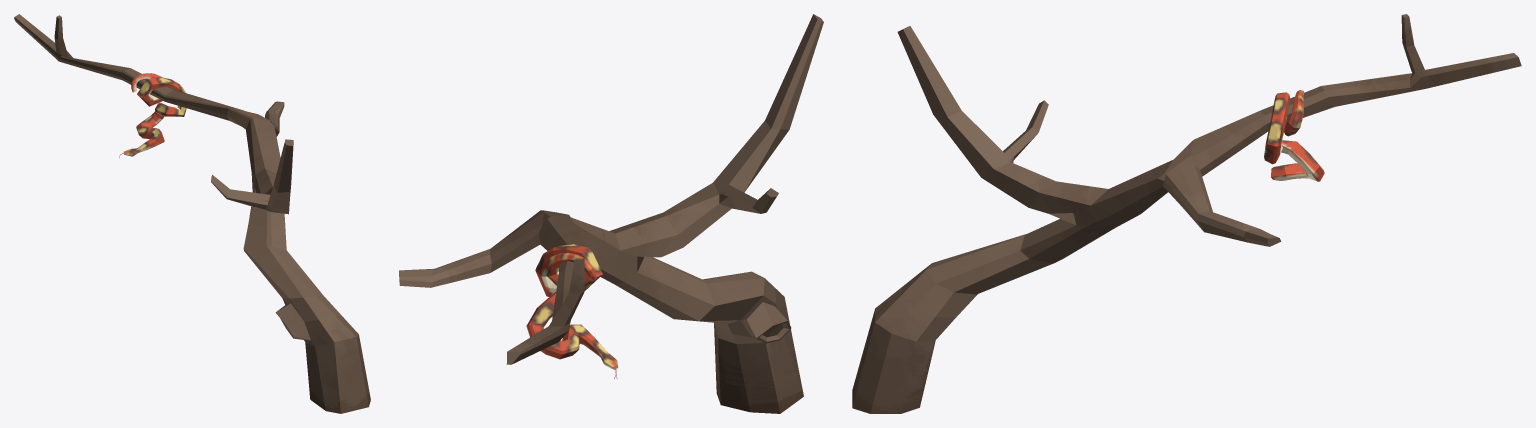
The model's file is TreeObstacle_Right_Snake.fbx.
The picture shows the model from 3 angles, left to right: view 1: azimuth 30°, elevation 25°; view 2: azimuth 150°, elevation 25°; view 3: azimuth 270°, elevation 25°; orthographic projection. The views are drawn at different scales.
Visible parts, largest first — view 1: TreeObstacle_Right_WithSnake; view 2: TreeObstacle_Right_WithSnake; view 3: TreeObstacle_Right_WithSnake.
Part boxes in pixels (box(x1,y1,x2,y2)): TreeObstacle_Right_WithSnake: box(14, 14, 370, 413); TreeObstacle_Right_WithSnake: box(399, 14, 823, 413); TreeObstacle_Right_WithSnake: box(852, 14, 1521, 413).
Size of the model in its own units: 535 by 777 by 1371.
